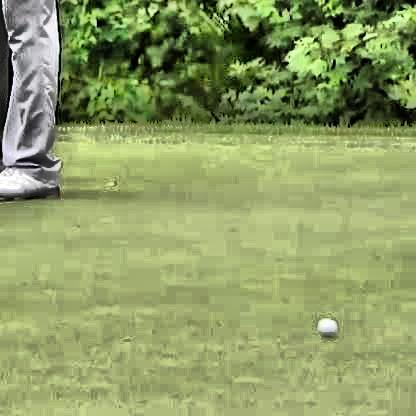golfball: (313, 313, 336, 336)
